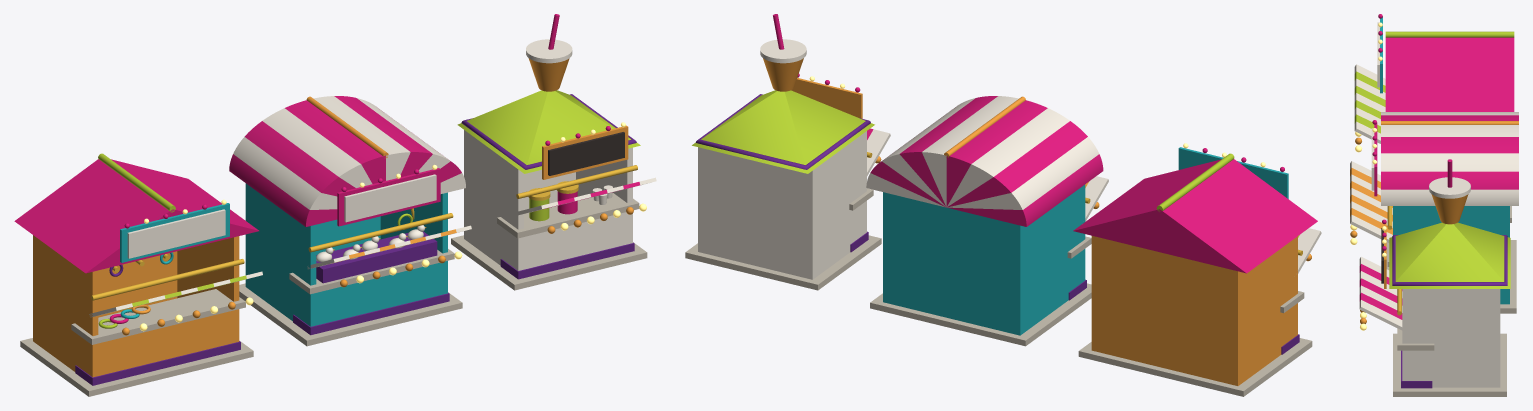
Rendered from stalls.glb.
The picture shows the model from 3 angles, left to right: view 1: azimuth 30°, elevation 25°; view 2: azimuth 150°, elevation 25°; view 3: azimuth 270°, elevation 25°; orthographic projection. The views are drawn at different scales.
Visible parts, largest first — view 1: pond_roof, ring_roof, pond_side_wall_l, ring_side_wall_l, lemo_roof, lemo_side_wall_l, ring_counter, pond_counter, lemo_counter, ring_back_wall, ring_counter_top, ring_side_wall_r (+27 smaller); view 2: pond_roof, ring_back_wall, pond_back_wall, ring_roof, lemo_back_wall, lemo_roof, pond_side_wall_l, ring_side_wall_l, lemo_side_wall_l, ring_pad, pond_pad, lemo_pad (+10 smaller); view 3: pond_roof, ring_roof, lemo_side_wall_r, lemo_roof, pond_side_wall_r, lemo_pad, ring_roof_ridge, lemo_roof_trim, lemo_cup_lid, lemo_cup, pond_pad, lemo_back_wall (+35 smaller).
Part boxes in pixels (x1,y1,x2,y2): pond_roof: (229,96,465,226); ring_roof: (14,159,258,273); pond_side_wall_l: (247,185,316,326); ring_side_wall_l: (35,237,98,377); lemo_roof: (457,90,640,173); lemo_side_wall_l: (465,131,523,270); ring_counter: (76,310,233,377); pond_counter: (294,263,446,325); lemo_counter: (518,212,632,269); ring_back_wall: (33,235,177,343); ring_counter_top: (71,289,245,344); ring_side_wall_r: (177,236,239,342); pond_roof: (866,96,1103,226); ring_back_wall: (1091,236,1241,385); pond_back_wall: (883,192,1023,335); ring_roof: (1073,159,1317,273); lemo_back_wall: (698,147,815,279); lemo_roof: (692,90,874,173); pond_side_wall_l: (1022,184,1085,333); ring_side_wall_l: (1239,236,1297,384); lemo_side_wall_l: (814,131,866,277); ring_pad: (1078,338,1312,396); pond_pad: (870,283,1091,346); lemo_pad: (685,235,881,290); pond_roof: (1381,112,1518,205); ring_roof: (1385,37,1514,111); lemo_side_wall_r: (1402,289,1497,387); lemo_roof: (1389,222,1510,288); pond_side_wall_r: (1393,206,1506,304); lemo_pad: (1393,333,1506,396); ring_roof_ridge: (1385,31,1514,37); lemo_roof_trim: (1392,235,1507,285); lemo_cup_lid: (1429,177,1470,198); lemo_cup: (1431,194,1468,224); pond_pad: (1386,240,1516,313); lemo_back_wall: (1494,289,1500,387).
Bounding box in the file's own units: 12.35 × 4.9 × 3.55.
